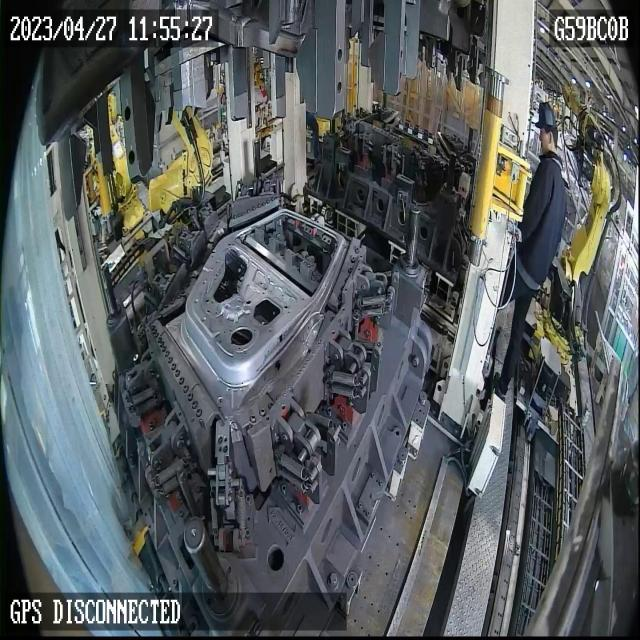Person: (494, 101, 566, 402)
